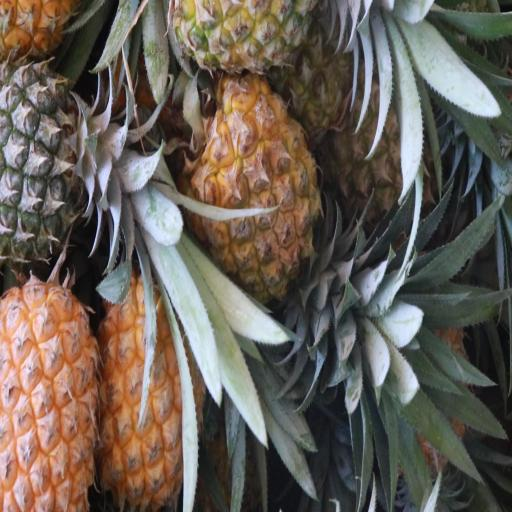------------------------------: (326, 66, 430, 231)
Pineapple - v8 v1: (190, 76, 316, 291), (94, 276, 200, 508), (0, 287, 93, 509)
